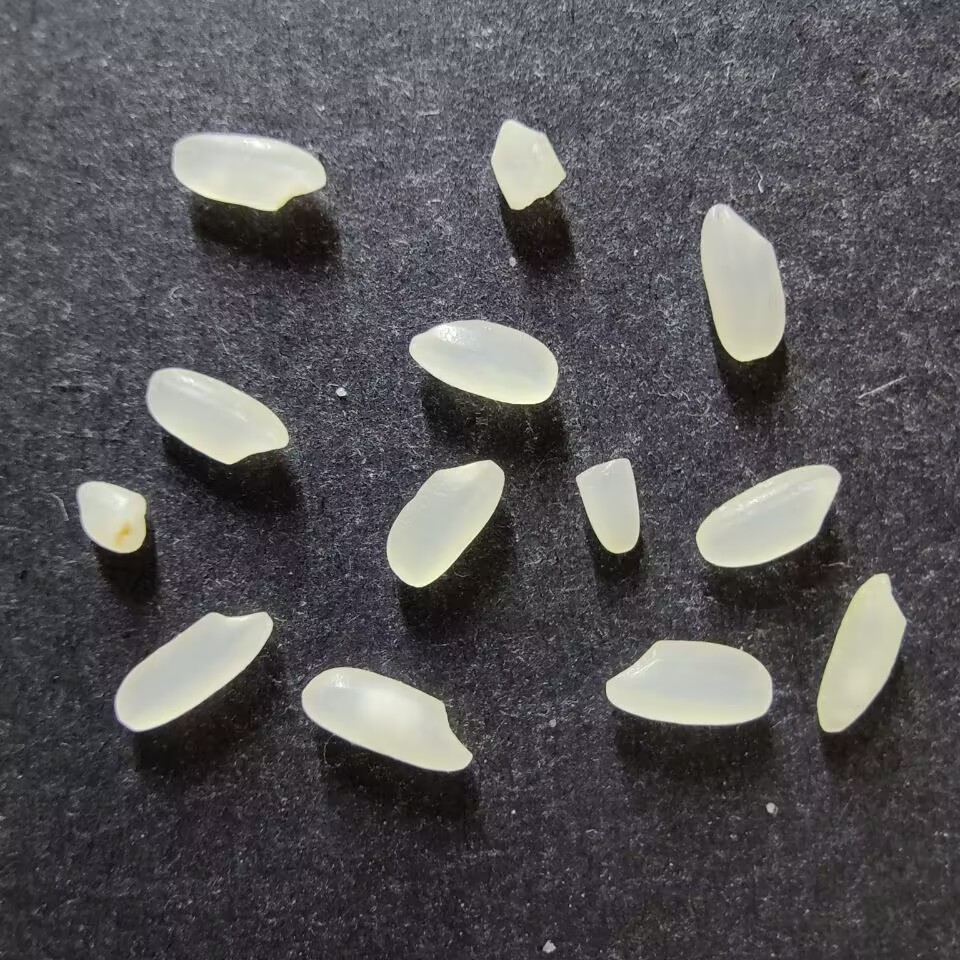broken: (489, 119, 566, 211), (574, 457, 640, 553), (76, 481, 147, 553)
rice: (114, 610, 273, 732), (300, 666, 472, 772), (385, 459, 505, 587), (696, 464, 841, 568), (816, 571, 906, 733), (604, 639, 773, 725), (145, 367, 289, 464), (699, 203, 786, 361), (408, 319, 557, 404), (171, 133, 326, 211)
